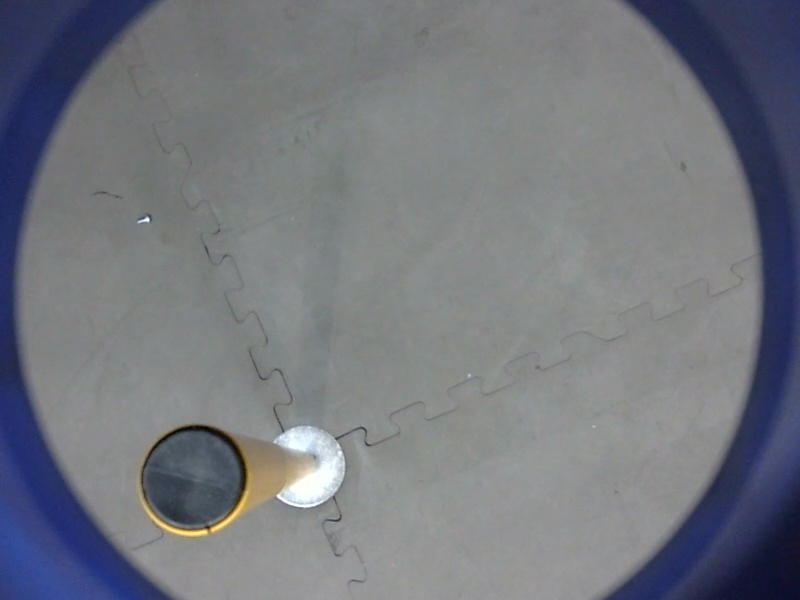tip: (130, 416, 257, 543)
